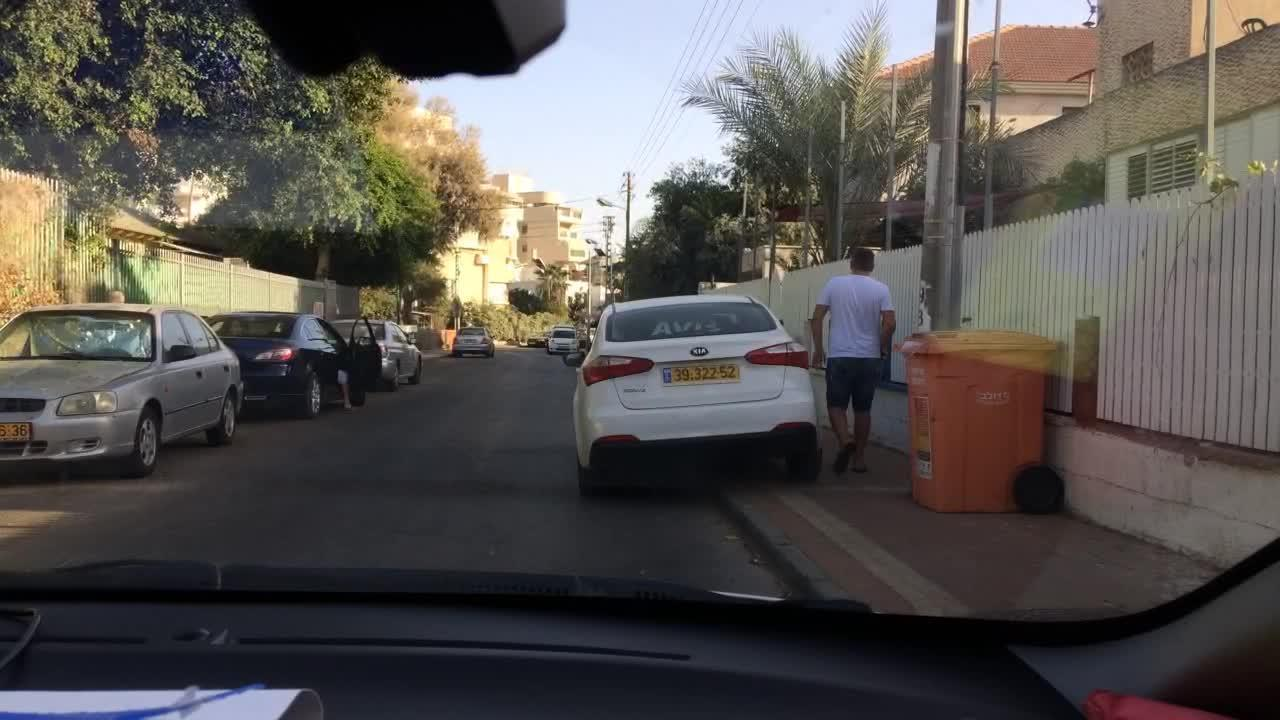kia: (686, 344, 714, 359)
